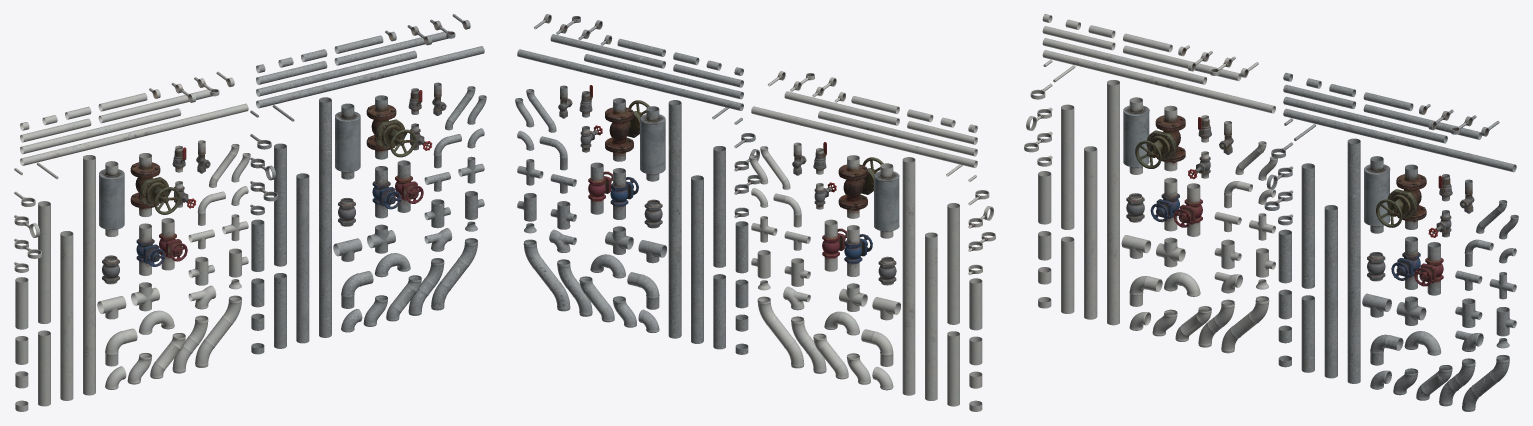
File: modular_pipes.glb
3 views of the same model, side by side, from view 1: azimuth 30°, elevation 25°; view 2: azimuth 150°, elevation 25°; view 3: azimuth 330°, elevation 25° (orthographic). The views are drawn at different scales.
Visible parts, largest first — view 1: pipe_5cm_metal, pipe_5cm_pvc; view 2: pipe_5cm_pvc, pipe_5cm_metal; view 3: pipe_5cm_metal, pipe_5cm_pvc.
Part boxes in pixels (<box>): pipe_5cm_metal: <box>250,14,486,354</box>; pipe_5cm_pvc: <box>14,71,250,411</box>; pipe_5cm_pvc: <box>749,71,995,411</box>; pipe_5cm_metal: <box>515,14,760,354</box>; pipe_5cm_metal: <box>1264,72,1518,411</box>; pipe_5cm_pvc: <box>1024,14,1277,353</box>.
Size of the model in its own units: 4.19 by 2.43 by 0.4578.
Materials: 2 (2 with a texture image).
